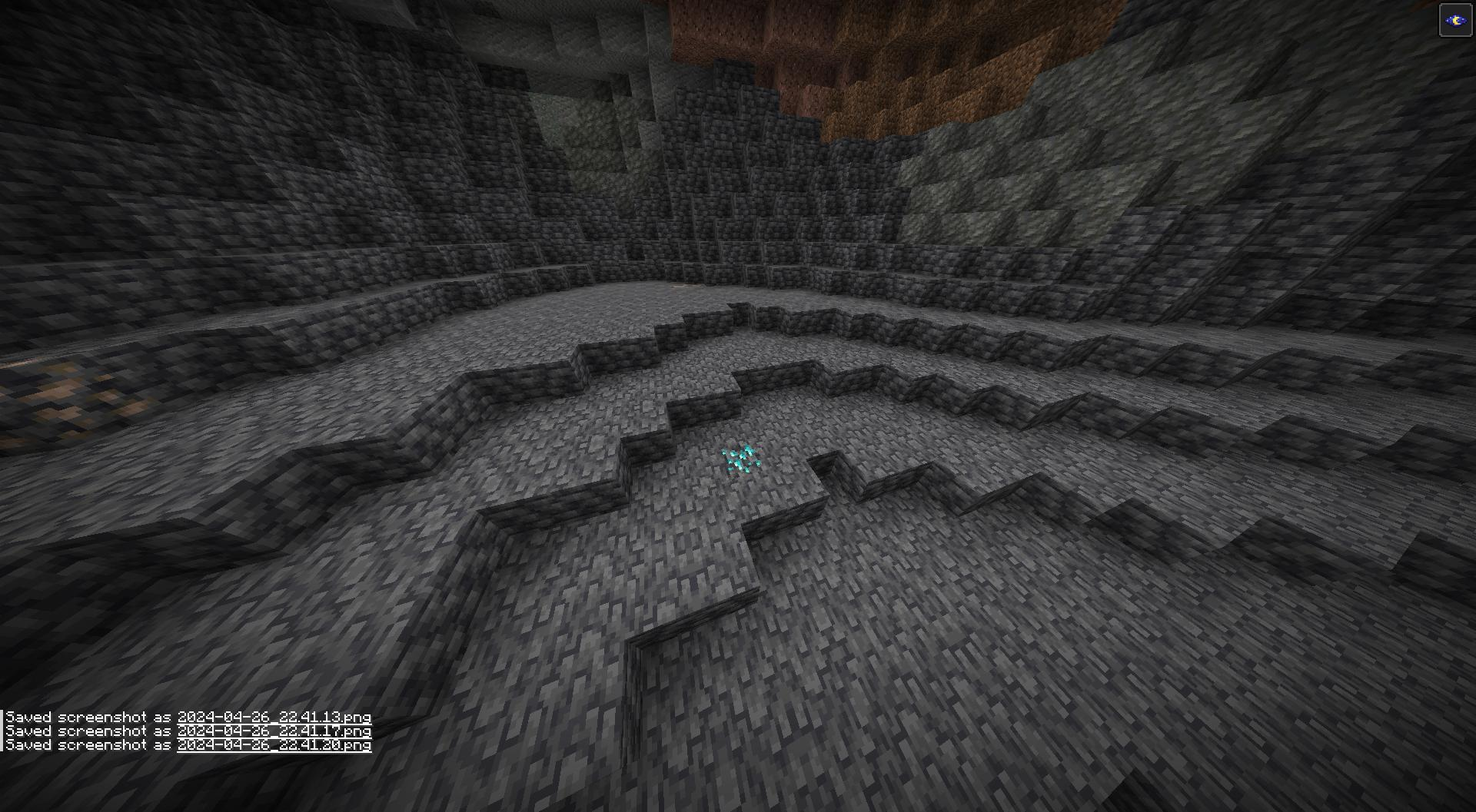diamond ore: (725, 439, 761, 476)
iron ore: (4, 352, 159, 439)
